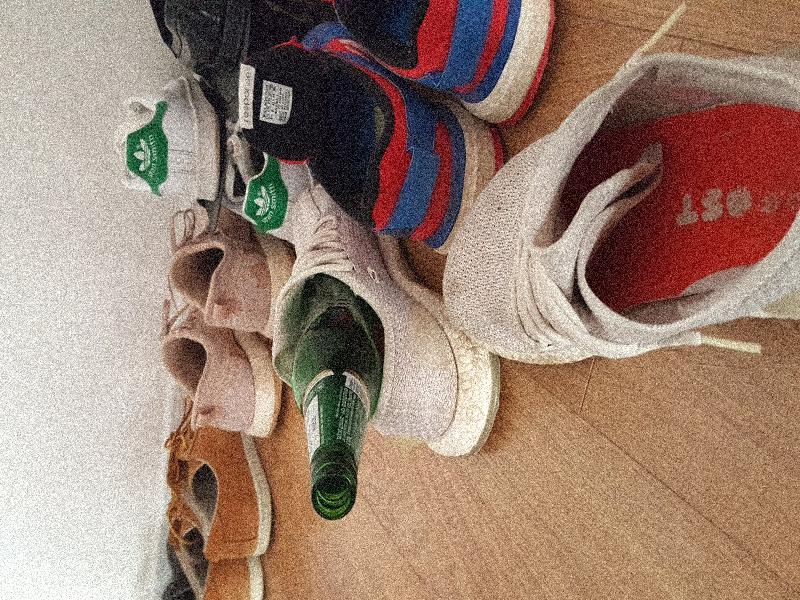Beer: (294, 273, 383, 520)
